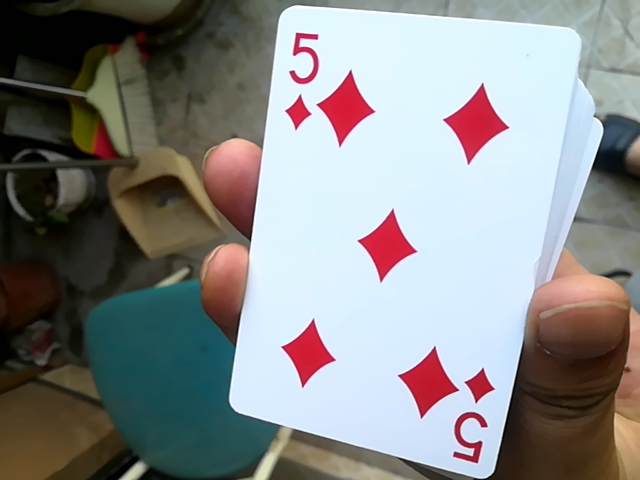fk 5: (225, 11, 600, 476)
